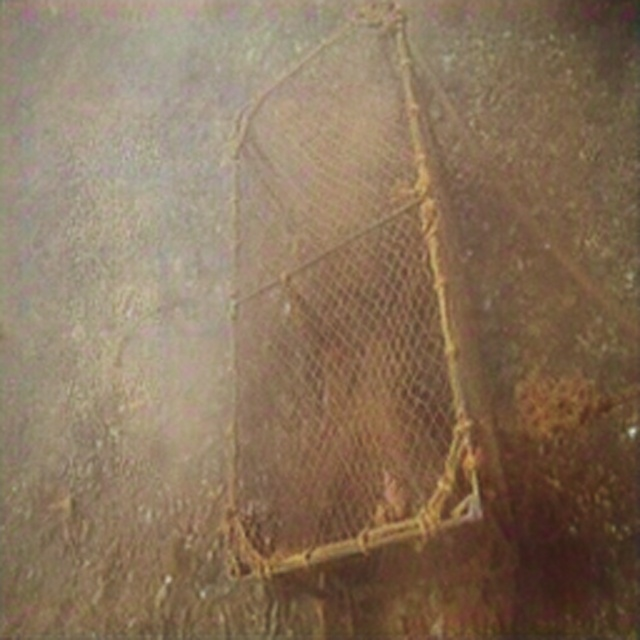mine: (225, 0, 523, 615)
